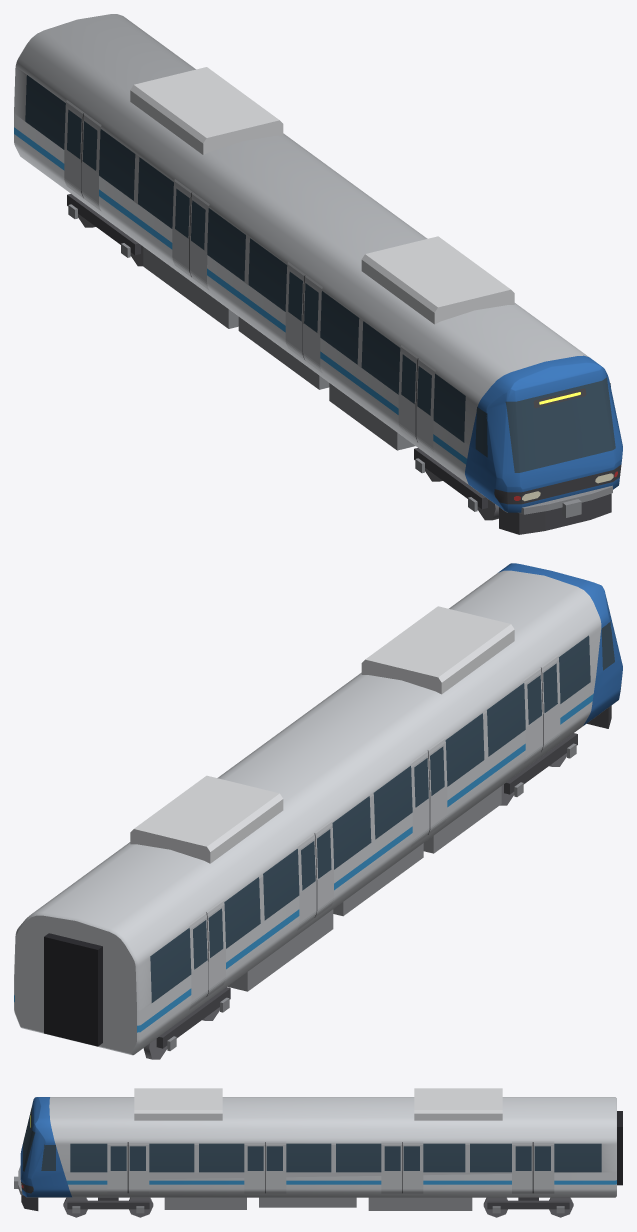
3 views of the same model, one above another, from view 1: azimuth 30°, elevation 25°; view 2: azimuth 150°, elevation 25°; view 3: azimuth 270°, elevation 25° (orthographic). The views are drawn at different scales.
Visible parts, largest first — view 1: 20_0; view 2: 20_0; view 3: 20_0.
Boxes of the visible parts, x1,y1,x2,y2 form: 20_0: (14,14,622,534); 20_0: (14,563,622,1059); 20_0: (14,1088,622,1217).
Size of the model in its own units: 2.93 by 3.9 by 20.
